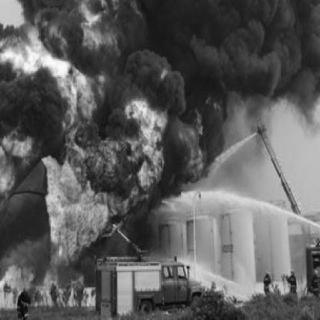Smoke: (158, 3, 316, 113)
